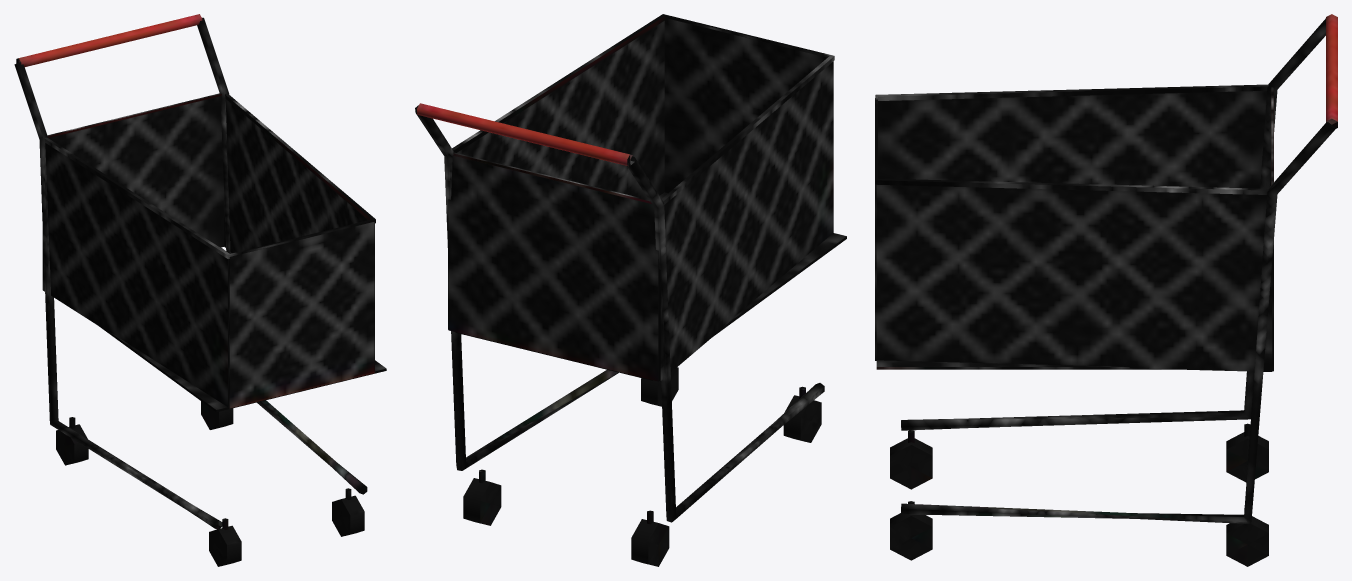
Rendered from cart_lod1_web.glb.
The picture shows the model from 3 angles, left to right: view 1: azimuth 30°, elevation 25°; view 2: azimuth 150°, elevation 25°; view 3: azimuth 270°, elevation 25°; orthographic projection. The views are drawn at different scales.
Visible parts, largest first — view 1: Cart_Body; view 2: Cart_Body; view 3: Cart_Body.
Part boxes in pixels (x1,y1,x2,y2): Cart_Body: (14, 14, 386, 566); Cart_Body: (415, 14, 846, 566); Cart_Body: (875, 14, 1337, 566).
Bounding box in the file's own units: 0.524 × 1.01 × 0.9351.
1 material, 1 textured.
